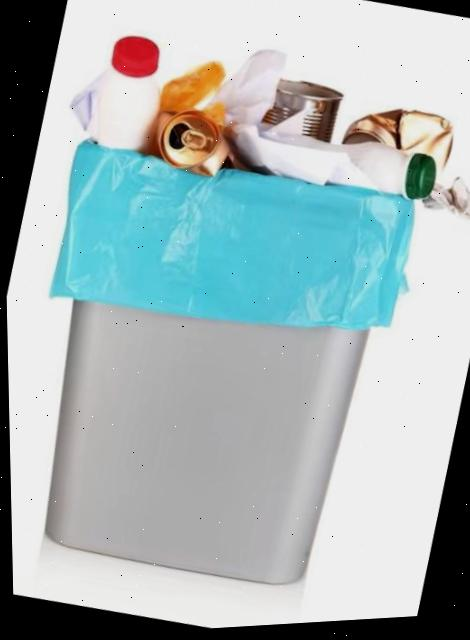Garbage: (67, 34, 468, 210)
contaminated_waste: (74, 41, 160, 151), (347, 146, 437, 204), (261, 85, 339, 149)
